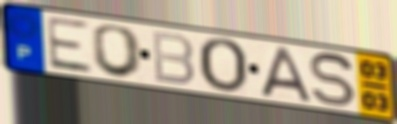A: (259, 45, 314, 104)
B: (150, 29, 197, 88)
E: (44, 15, 95, 76)
O: (195, 36, 250, 96), (91, 23, 146, 80)
S: (308, 51, 358, 110)
